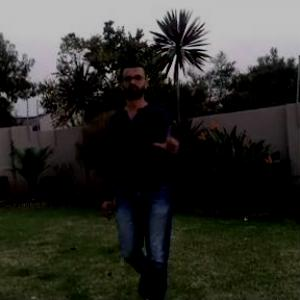land_hand: (153, 121, 182, 156)
